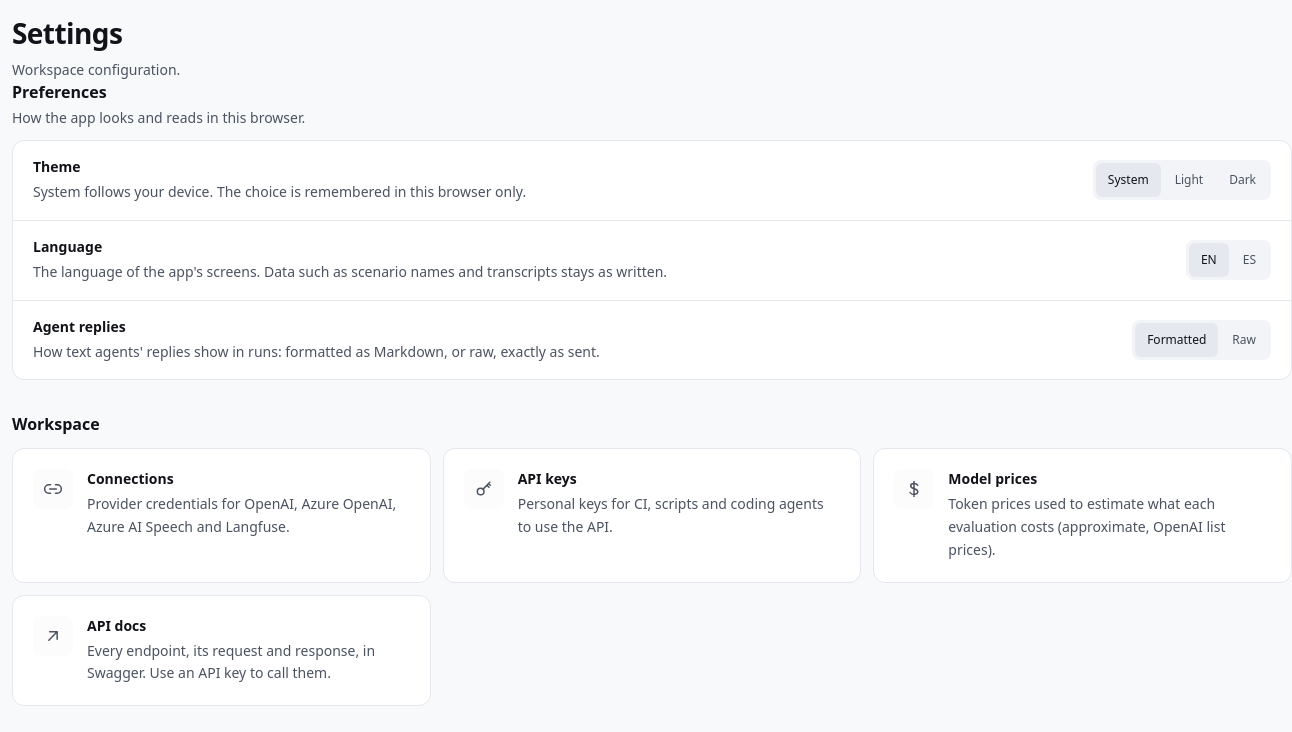
Settings page › switches the language from Preferences and remembers it in the cookie
Click the radio button labelled "ES" at (1249, 260), box [1231, 243, 1268, 277]
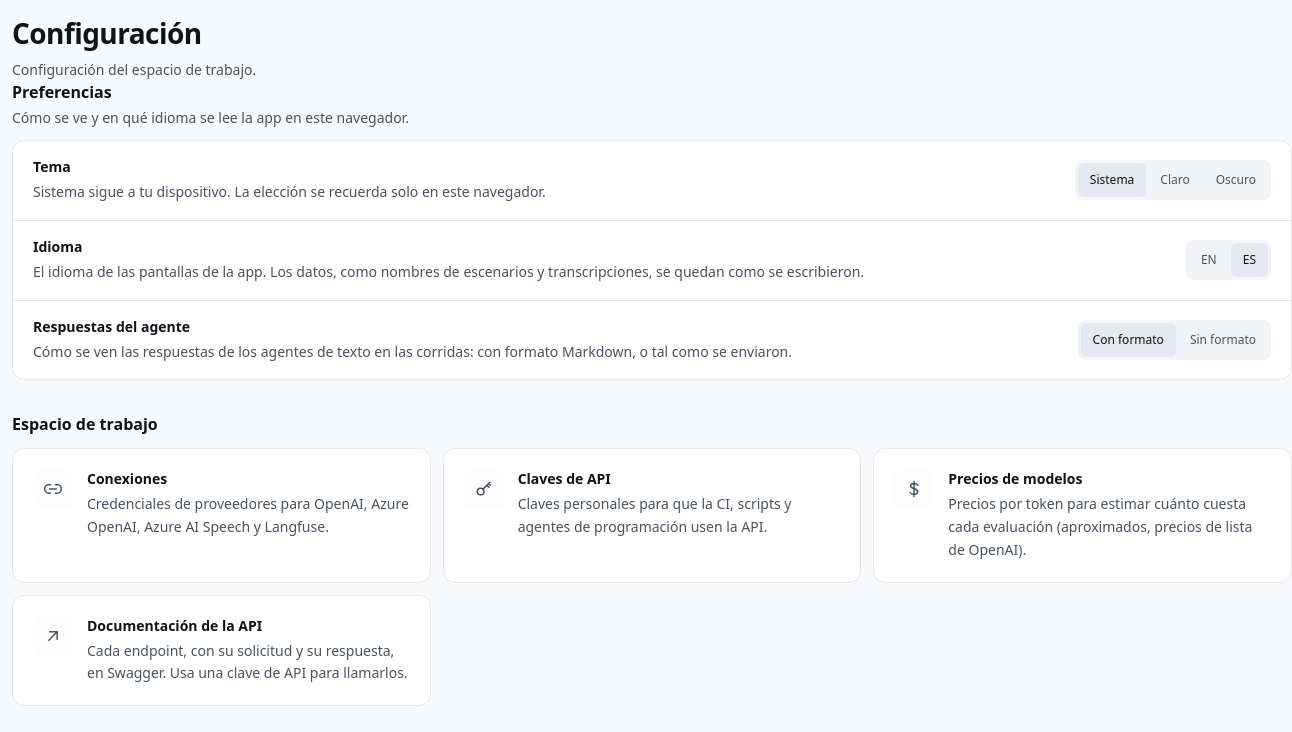
Check: the element "Preferencias" is shown, box [12, 80, 1291, 380]
